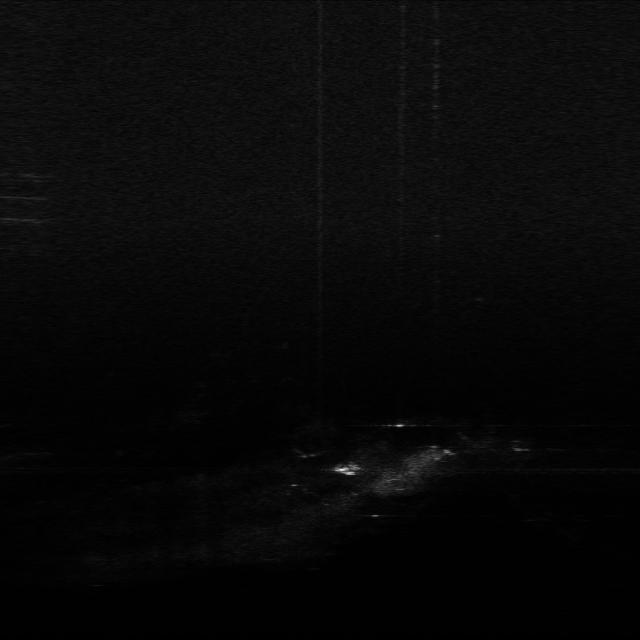rov: (336, 461, 362, 476)
